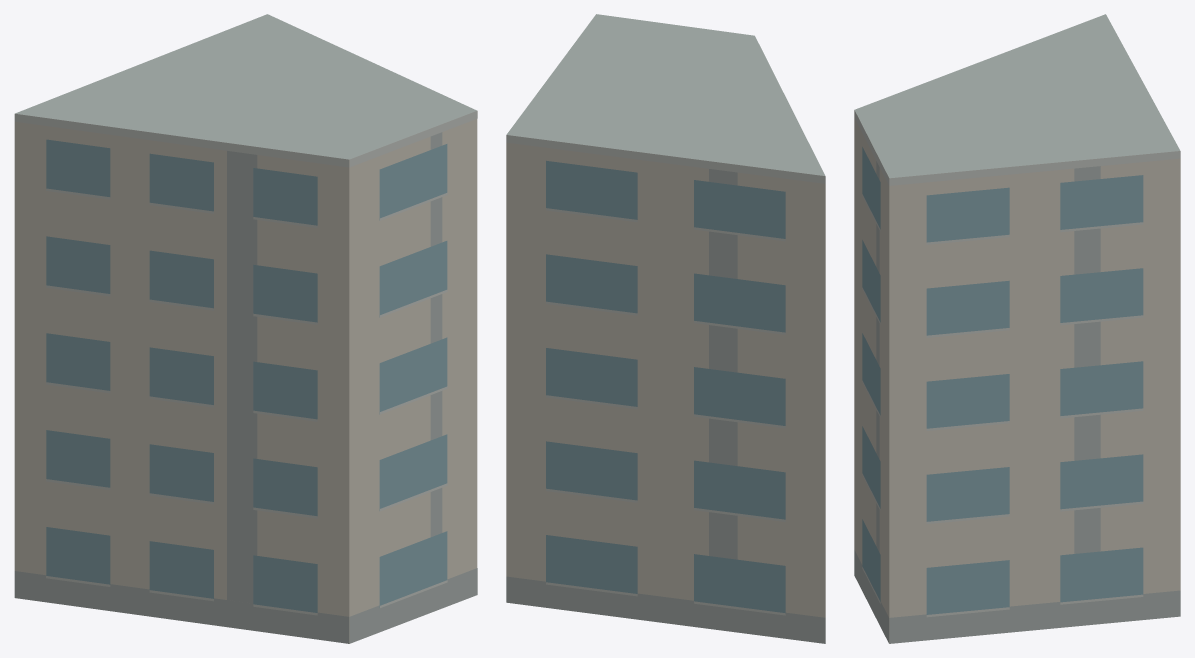
File: survey-upis-32825088.glb
3 renders of one model, left to right at view 1: azimuth 30°, elevation 25°; view 2: azimuth 150°, elevation 25°; view 3: azimuth 270°, elevation 25°, orthographic. The views are drawn at different scales.
Visible parts, largest first — view 1: survey-upis-32825088.tmp; view 2: survey-upis-32825088.tmp; view 3: survey-upis-32825088.tmp.
Boxes of the visible parts, x1=… form: survey-upis-32825088.tmp: x1=14, y1=14, x2=477, y2=643; survey-upis-32825088.tmp: x1=506, y1=14, x2=825, y2=643; survey-upis-32825088.tmp: x1=854, y1=14, x2=1180, y2=643.
Bounding box in the file's own units: 11.21 × 14.8 × 9.41.
